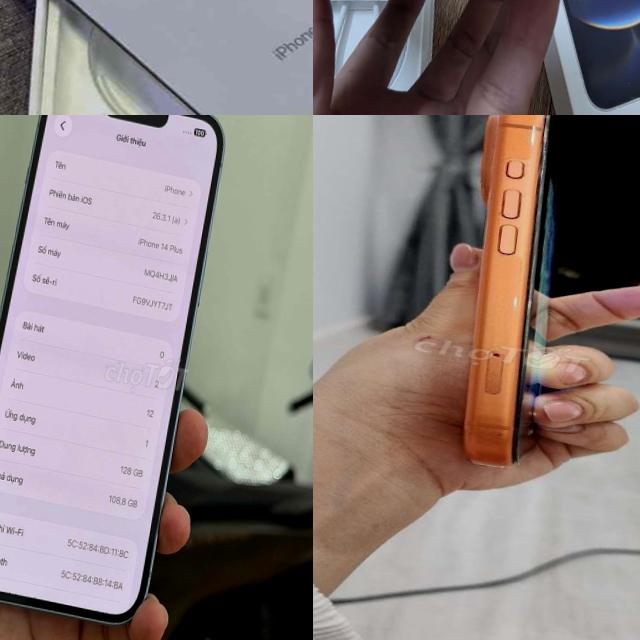gen_14: (0, 115, 229, 635)
gen_17: (407, 115, 620, 485)
gen_x_xs: (0, 0, 313, 115)
physical_damage: (530, 115, 552, 120)
scratch: (500, 287, 532, 319)
